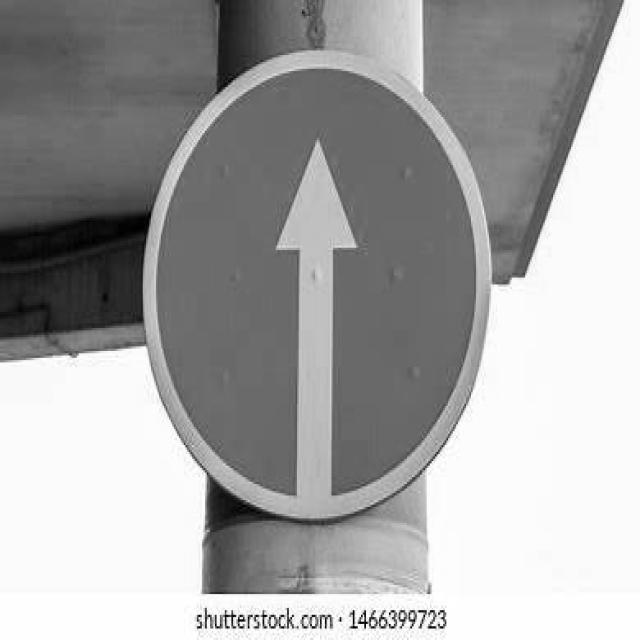compulsory_ahead: (140, 49, 492, 528)
